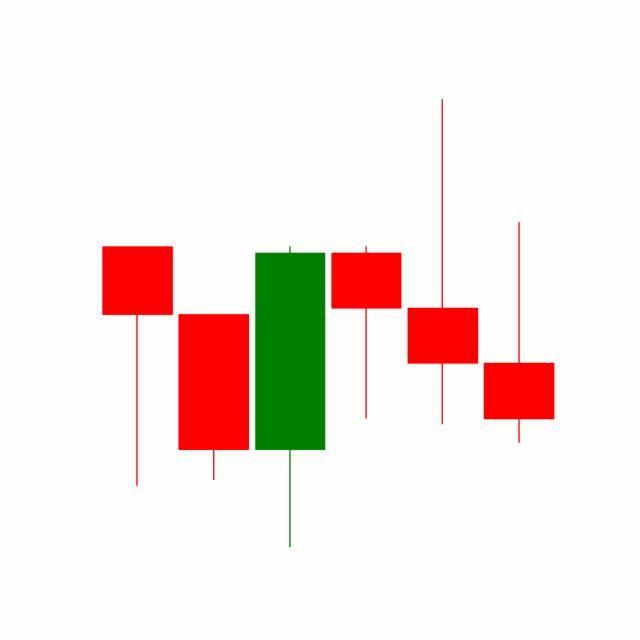Spinning Top: (404, 97, 482, 430)
